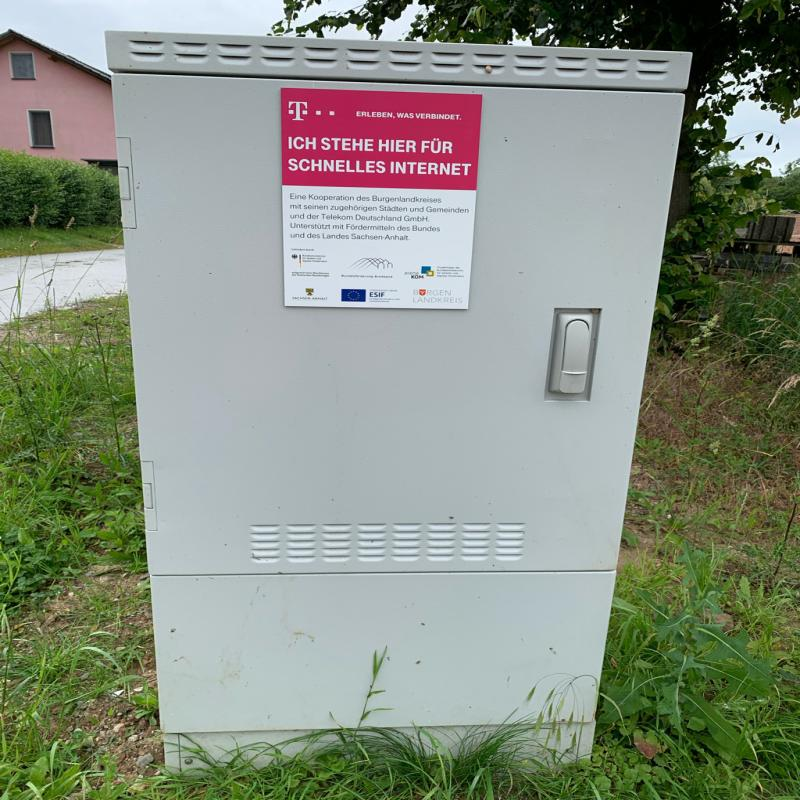NT-Gehause: (107, 26, 702, 762)
Steaker: (284, 84, 480, 308)
